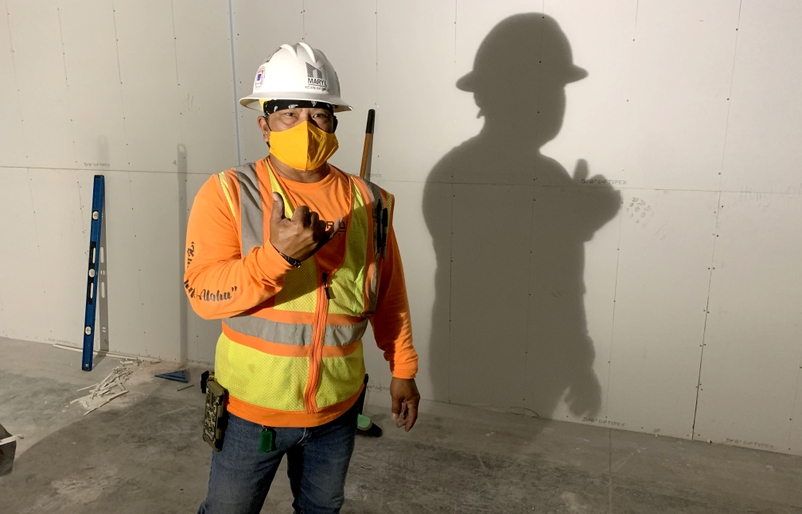Helmet: (233, 39, 357, 116)
Mask: (267, 118, 344, 171)
Safety_Jacket: (208, 161, 397, 415)
